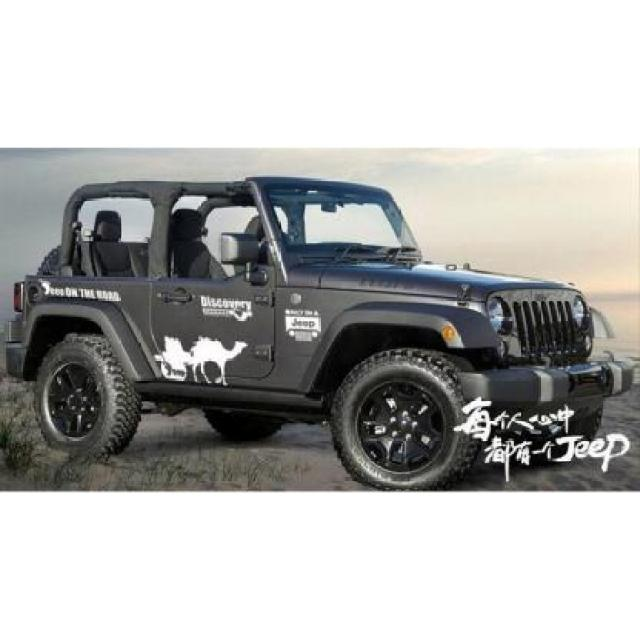Jeep: (4, 172, 630, 490)
